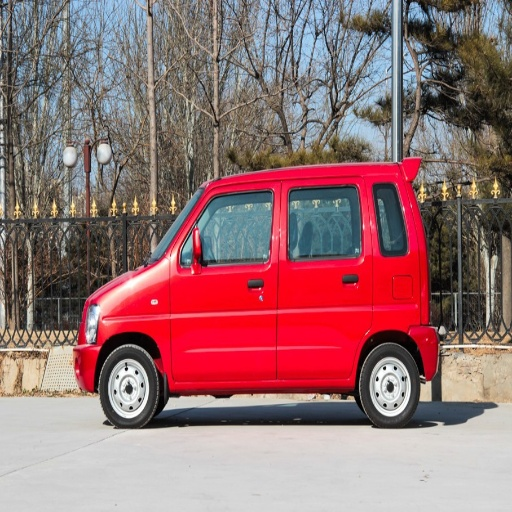trunk: (382, 269, 420, 334)
